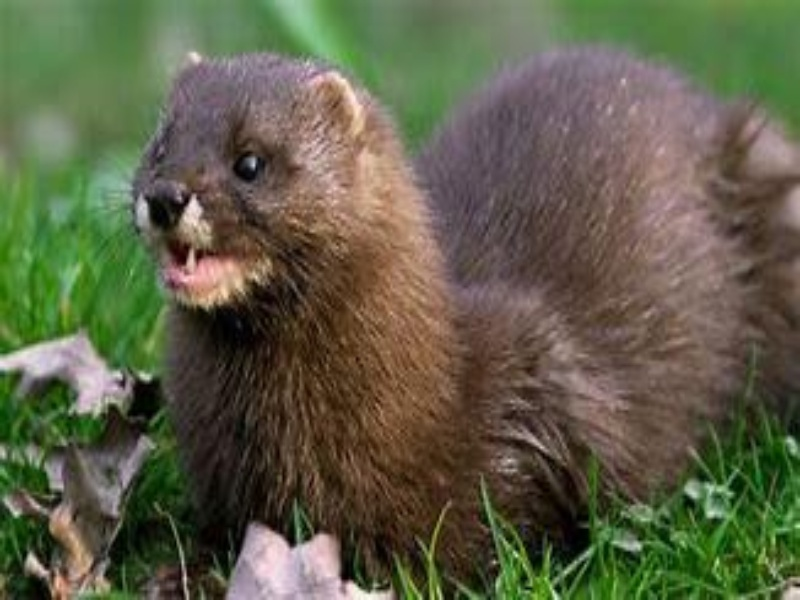minkish: (124, 35, 800, 572)
